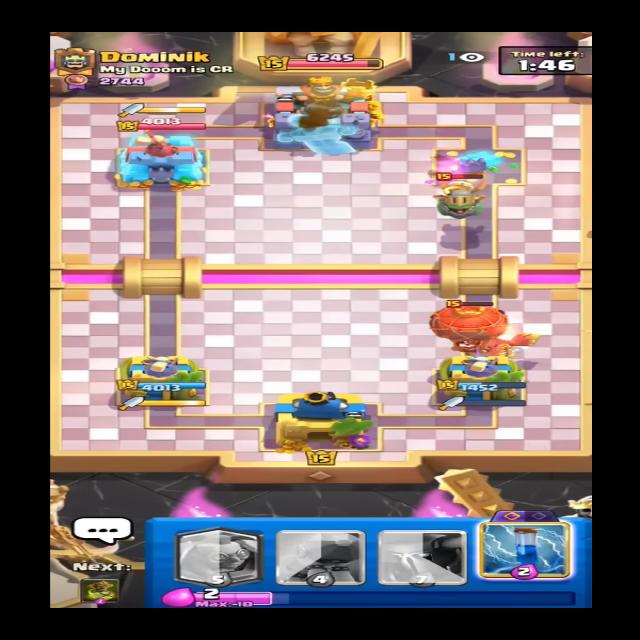Balloon: (431, 300, 516, 358)
Infernodragon: (415, 168, 506, 222)
